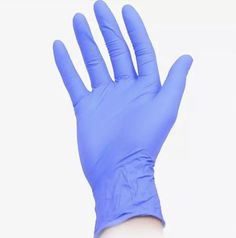gloves: (49, 0, 193, 230)
